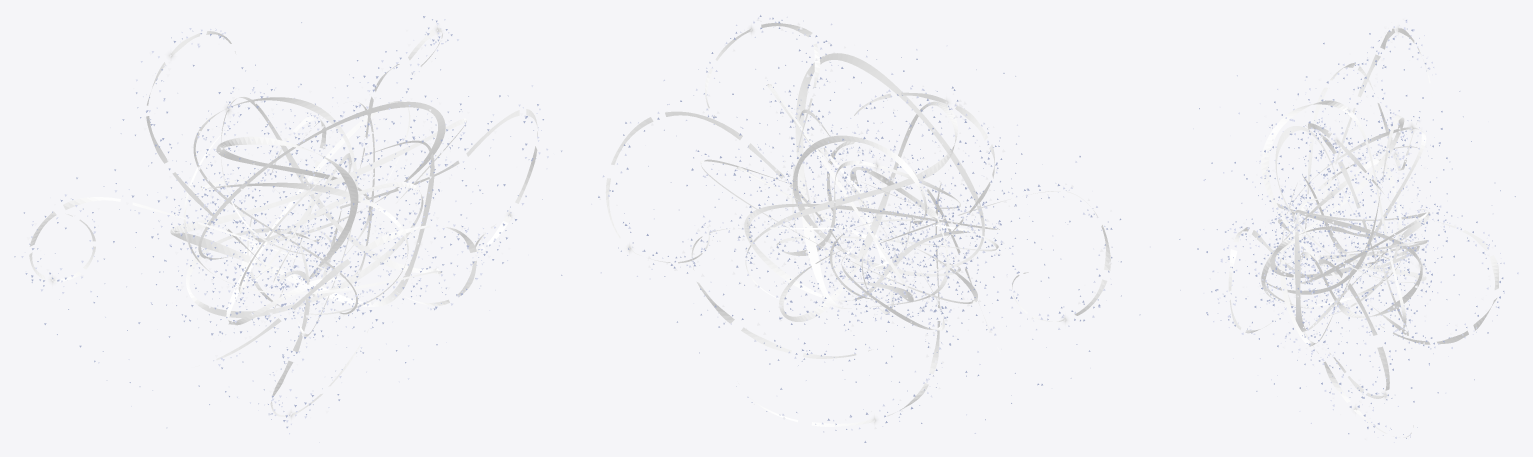
Rendered from Stardust_Blob.glb.
The picture shows the model from 3 angles, left to right: view 1: azimuth 30°, elevation 25°; view 2: azimuth 150°, elevation 25°; view 3: azimuth 270°, elevation 25°; orthographic projection. The views are drawn at different scales.
Parts seen in each view (by area): view 1: Stardust_Blob; view 2: Stardust_Blob; view 3: Stardust_Blob.
Boxes of the visible parts, left/top/right/bottom form: Stardust_Blob: left=14, top=16, right=562, bottom=442; Stardust_Blob: left=591, top=15, right=1150, bottom=442; Stardust_Blob: left=1179, top=17, right=1518, bottom=442.
Bounding box in the file's own units: 0.6907 × 0.4966 × 0.4166.
5 materials, 2 textured.
